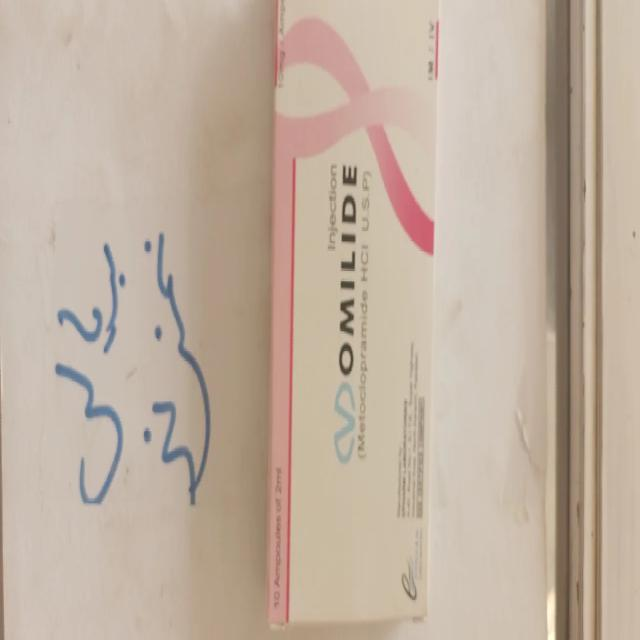drug-name: (339, 167, 355, 374)
